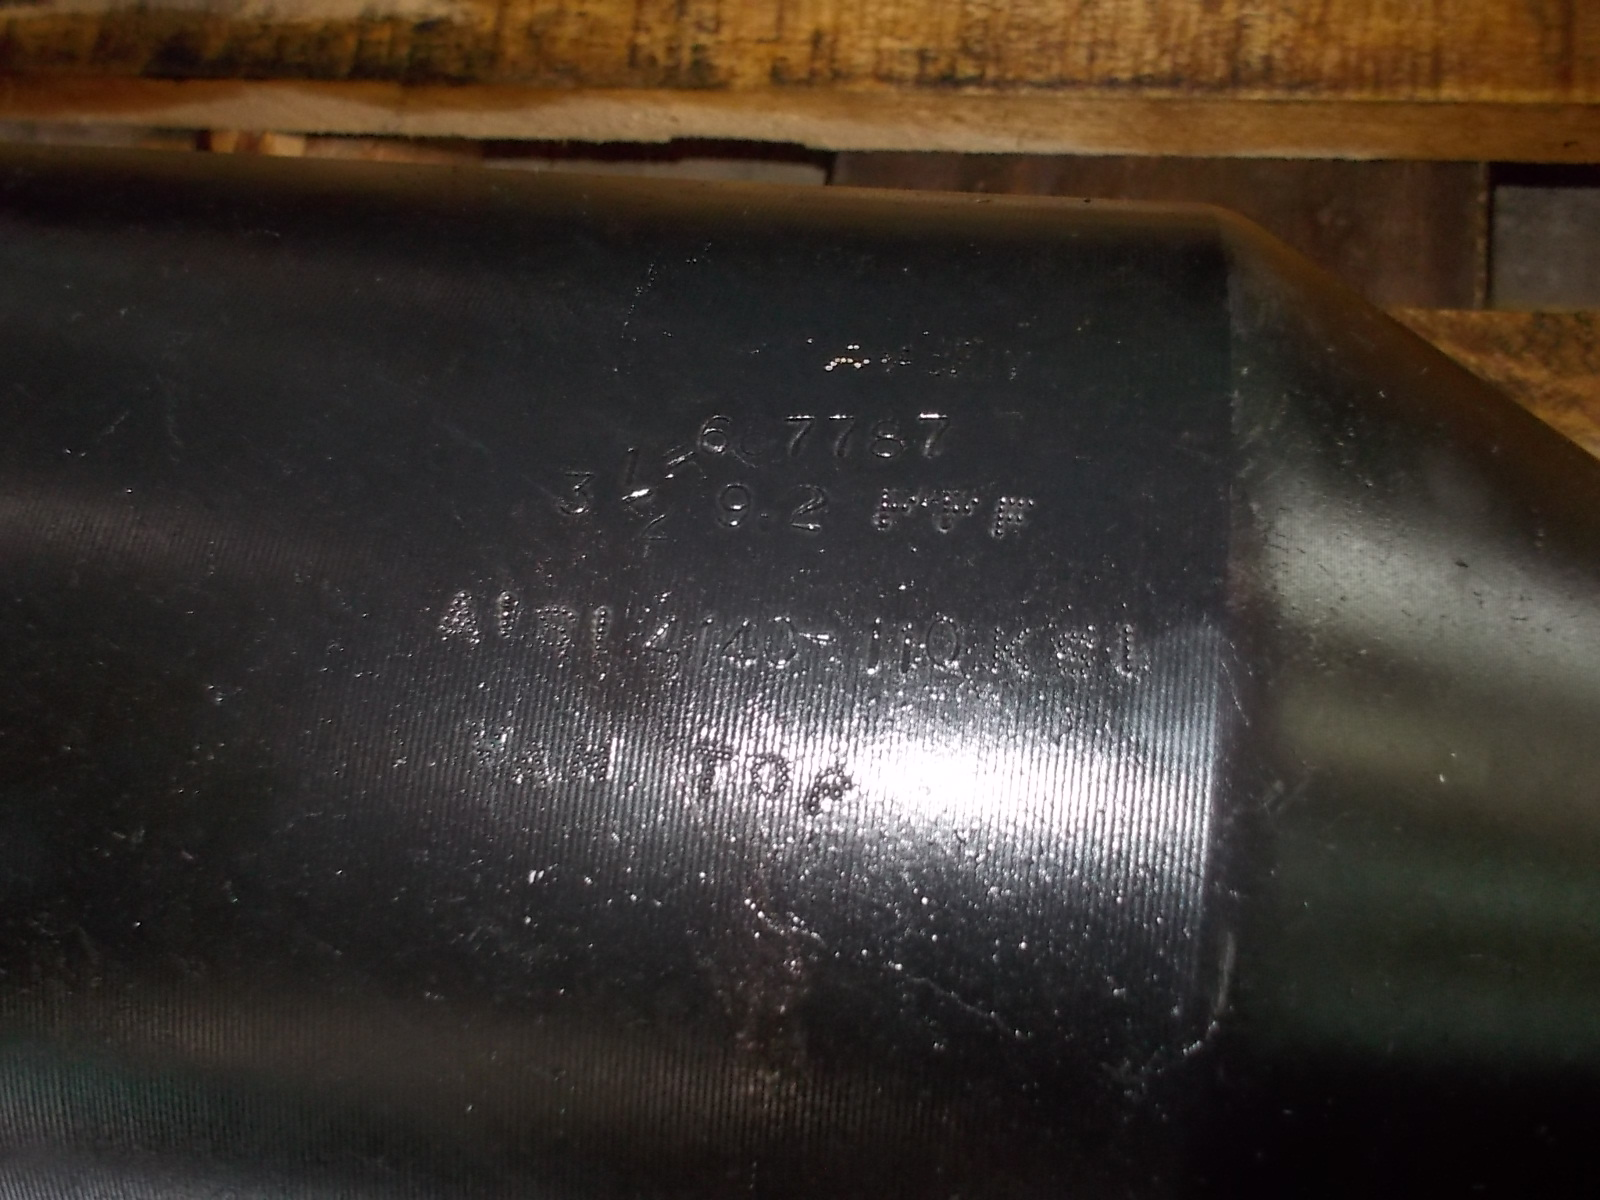character: (564, 725, 625, 802), (506, 729, 564, 802), (428, 584, 488, 652), (1046, 621, 1104, 686), (985, 620, 1042, 686), (781, 476, 839, 539), (684, 740, 737, 807), (1112, 616, 1167, 681), (699, 476, 756, 537), (988, 487, 1042, 550), (801, 758, 852, 822), (867, 478, 918, 539), (461, 710, 508, 776), (934, 483, 981, 545), (717, 615, 760, 679), (532, 600, 581, 655), (922, 613, 966, 672), (629, 500, 683, 548), (760, 613, 799, 677), (748, 750, 791, 805), (559, 466, 600, 521), (913, 407, 952, 460), (859, 610, 889, 676), (824, 408, 859, 464), (867, 415, 906, 464), (780, 411, 816, 463), (697, 408, 732, 458), (740, 417, 774, 458), (897, 620, 918, 679), (617, 442, 644, 485), (614, 484, 654, 511), (799, 629, 847, 650), (757, 507, 770, 524)
